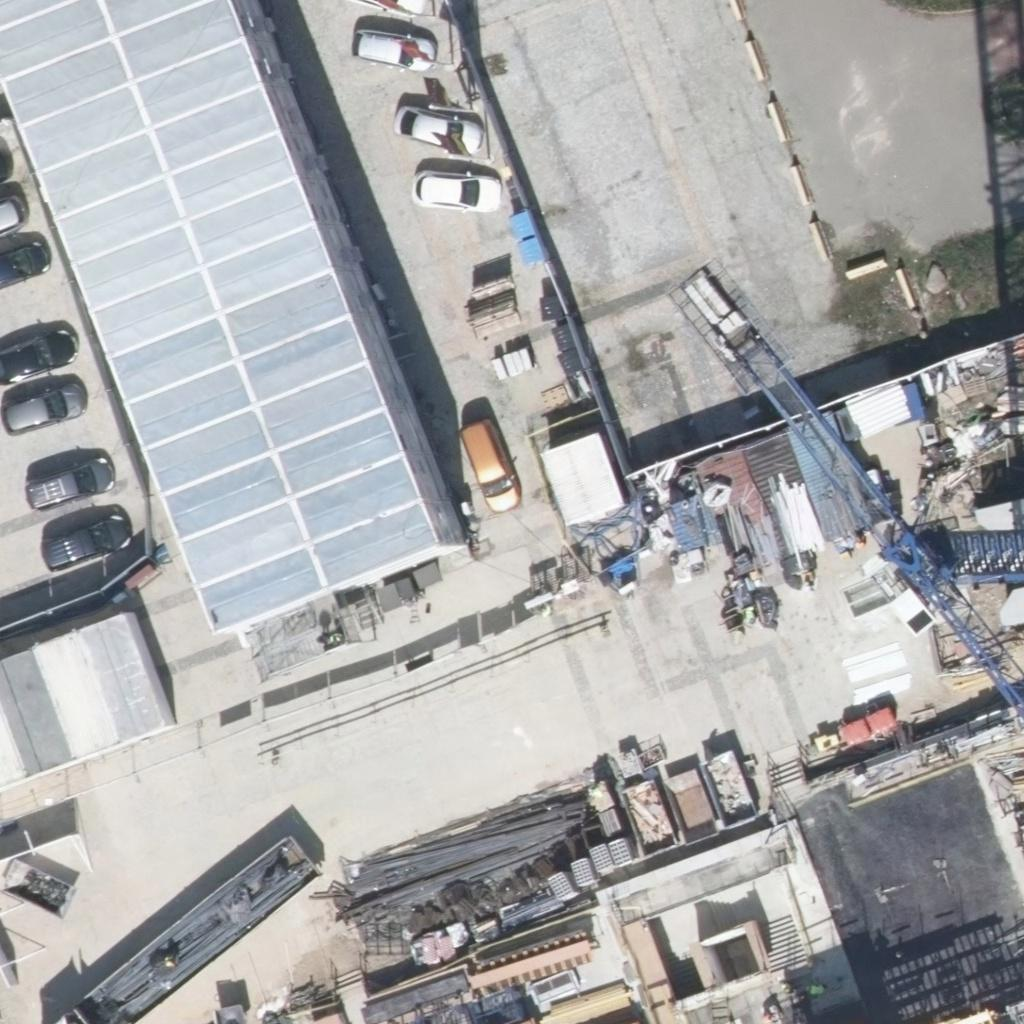samochod_osobowy: (461, 418, 521, 512), (44, 514, 130, 570), (3, 378, 86, 434), (394, 104, 482, 155), (26, 458, 114, 509), (413, 161, 500, 212), (352, 19, 435, 71), (0, 330, 77, 384), (0, 240, 49, 287), (0, 197, 25, 236)
zuraw_wiezowy: (657, 263, 1023, 710)
